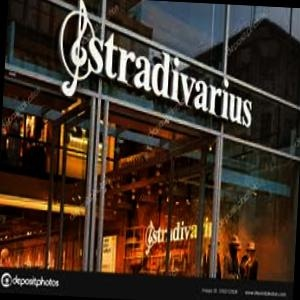stradivarius: (239, 78, 300, 81)
